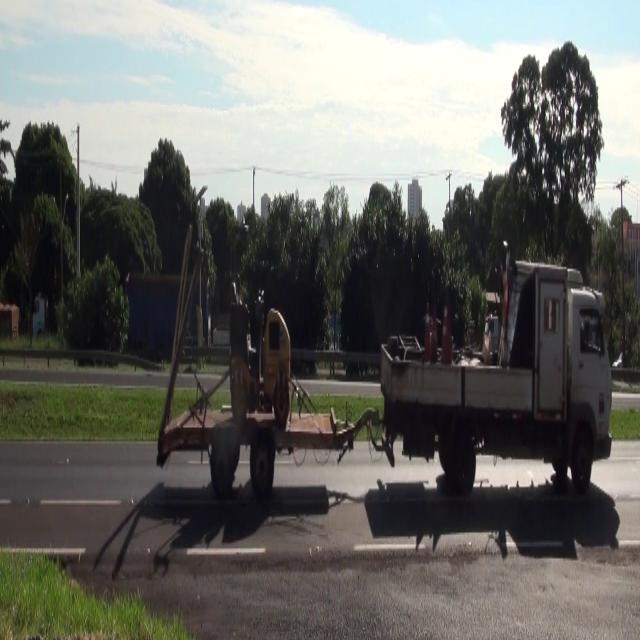-axle: (451, 423, 479, 497), (570, 428, 594, 502), (250, 435, 276, 498), (210, 434, 236, 494)
